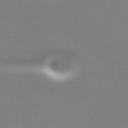normal: (1, 55, 41, 74)
